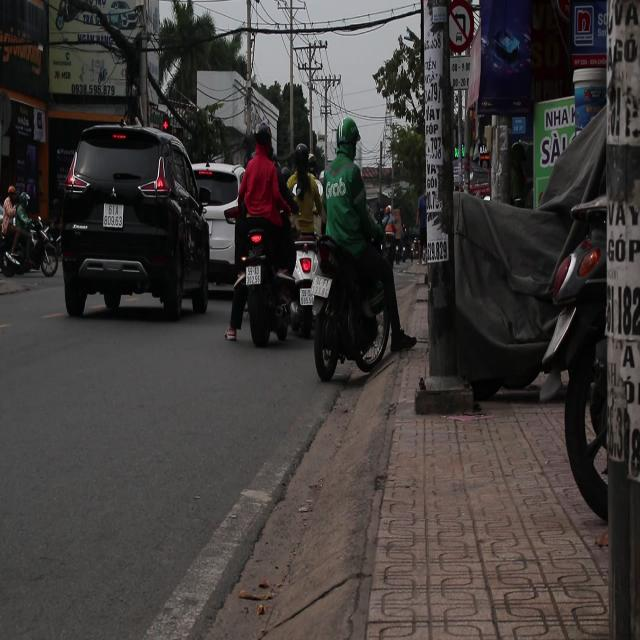car: (60, 126, 212, 322), (194, 162, 243, 294)
motorbike: (311, 229, 393, 385), (233, 213, 300, 349), (291, 188, 330, 340), (1, 211, 61, 277)
